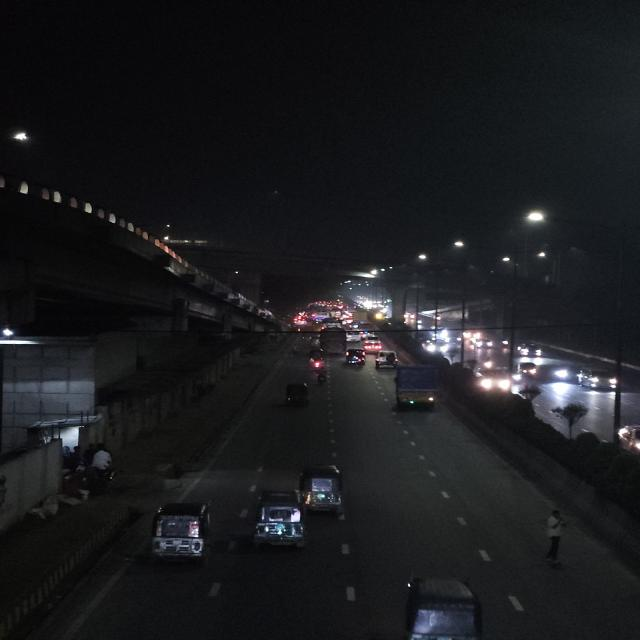bus: (320, 318, 348, 356)
car: (465, 364, 511, 394), (574, 366, 621, 394), (533, 363, 573, 383), (516, 341, 545, 359), (374, 350, 398, 369), (424, 336, 449, 354), (359, 335, 384, 350), (290, 316, 309, 330), (357, 326, 374, 335)
cng: (396, 569, 489, 640), (144, 498, 216, 570), (248, 482, 306, 556), (298, 463, 346, 517), (281, 380, 313, 408), (616, 423, 640, 450), (343, 348, 366, 366), (517, 361, 540, 377)
motorcycle: (307, 350, 326, 370), (499, 338, 512, 354), (481, 355, 494, 371)
pedestrian: (532, 506, 574, 566)
truck: (390, 363, 443, 413)
